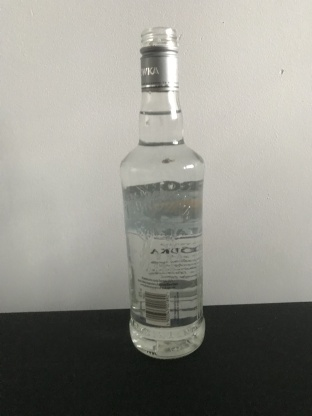nakretka: (138, 24, 180, 91)
